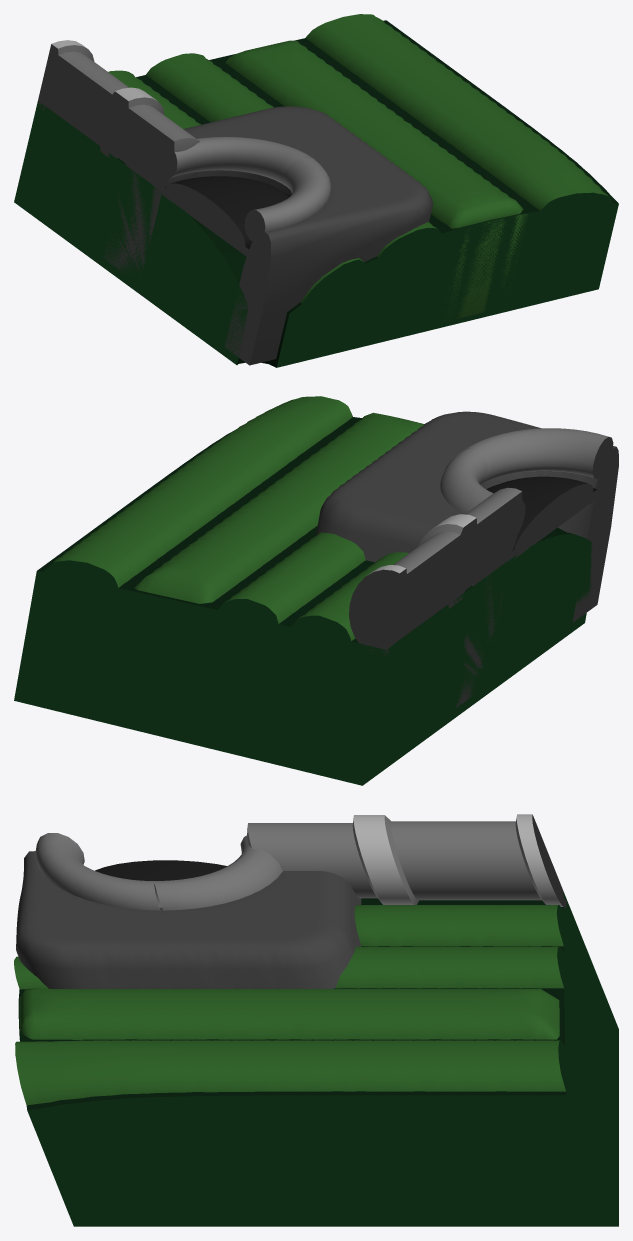
The model's file is green_shell_243.glb.
3 views of the same model, one above another, from view 1: azimuth 30°, elevation 25°; view 2: azimuth 150°, elevation 25°; view 3: azimuth 270°, elevation 25° (orthographic). The views are drawn at different scales.
Visible parts, largest first — view 1: green_shell_243; view 2: green_shell_243; view 3: green_shell_243.
Boxes of the visible parts, x1,y1,x2,y2 form: green_shell_243: [14, 14, 618, 367]; green_shell_243: [14, 396, 618, 785]; green_shell_243: [14, 814, 618, 1226].
Size of the model in its own units: 24 by 12.25 by 31.08.
